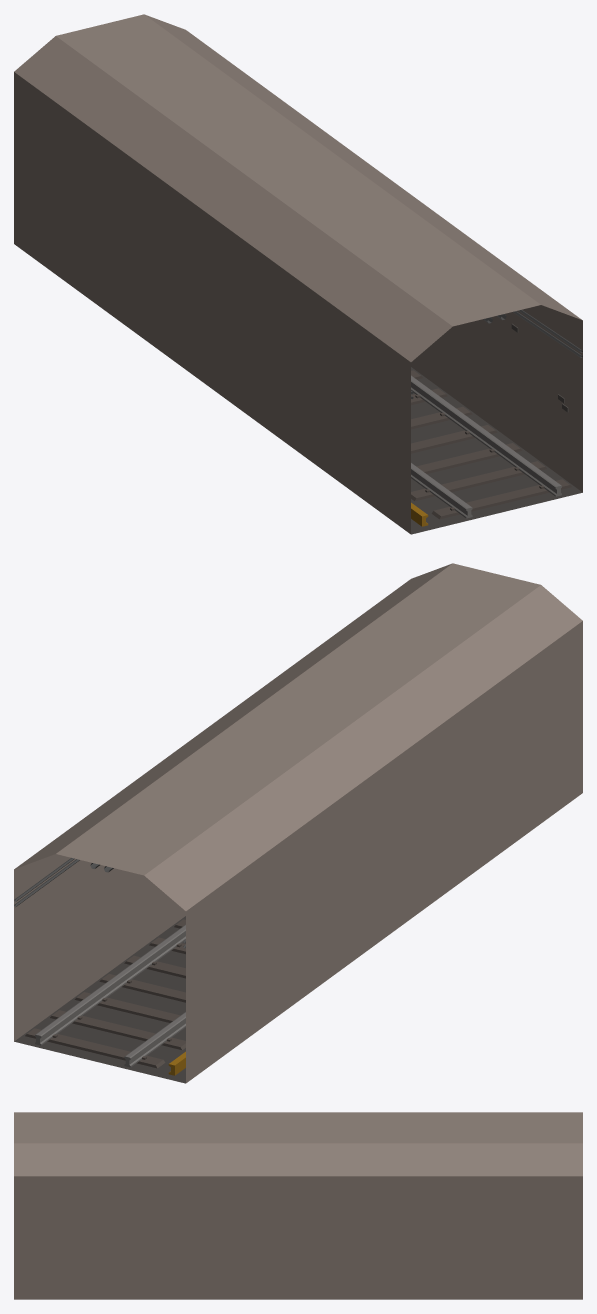
File: SM_Train_Track_Underground_Single_Tunnel_Mid_02.fbx
The picture shows the model from 3 angles, top to bottom: view 1: azimuth 30°, elevation 25°; view 2: azimuth 150°, elevation 25°; view 3: azimuth 270°, elevation 25°; orthographic projection. The views are drawn at different scales.
Visible parts, largest first — view 1: SM_Train_Track_Underground_Single_Tunnel_Mid_02; view 2: SM_Train_Track_Underground_Single_Tunnel_Mid_02; view 3: SM_Train_Track_Underground_Single_Tunnel_Mid_02.
Boxes of the visible parts, left/top/right/bottom form: SM_Train_Track_Underground_Single_Tunnel_Mid_02: left=14, top=14, right=582, bottom=534; SM_Train_Track_Underground_Single_Tunnel_Mid_02: left=14, top=563, right=582, bottom=1083; SM_Train_Track_Underground_Single_Tunnel_Mid_02: left=14, top=1112, right=582, bottom=1299.
Bounding box in the file's own units: 350 × 385 × 1400.
